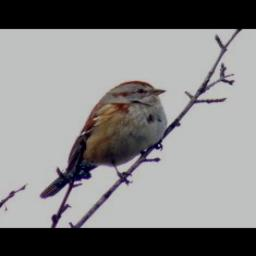Sparrow: (36, 79, 166, 199)
